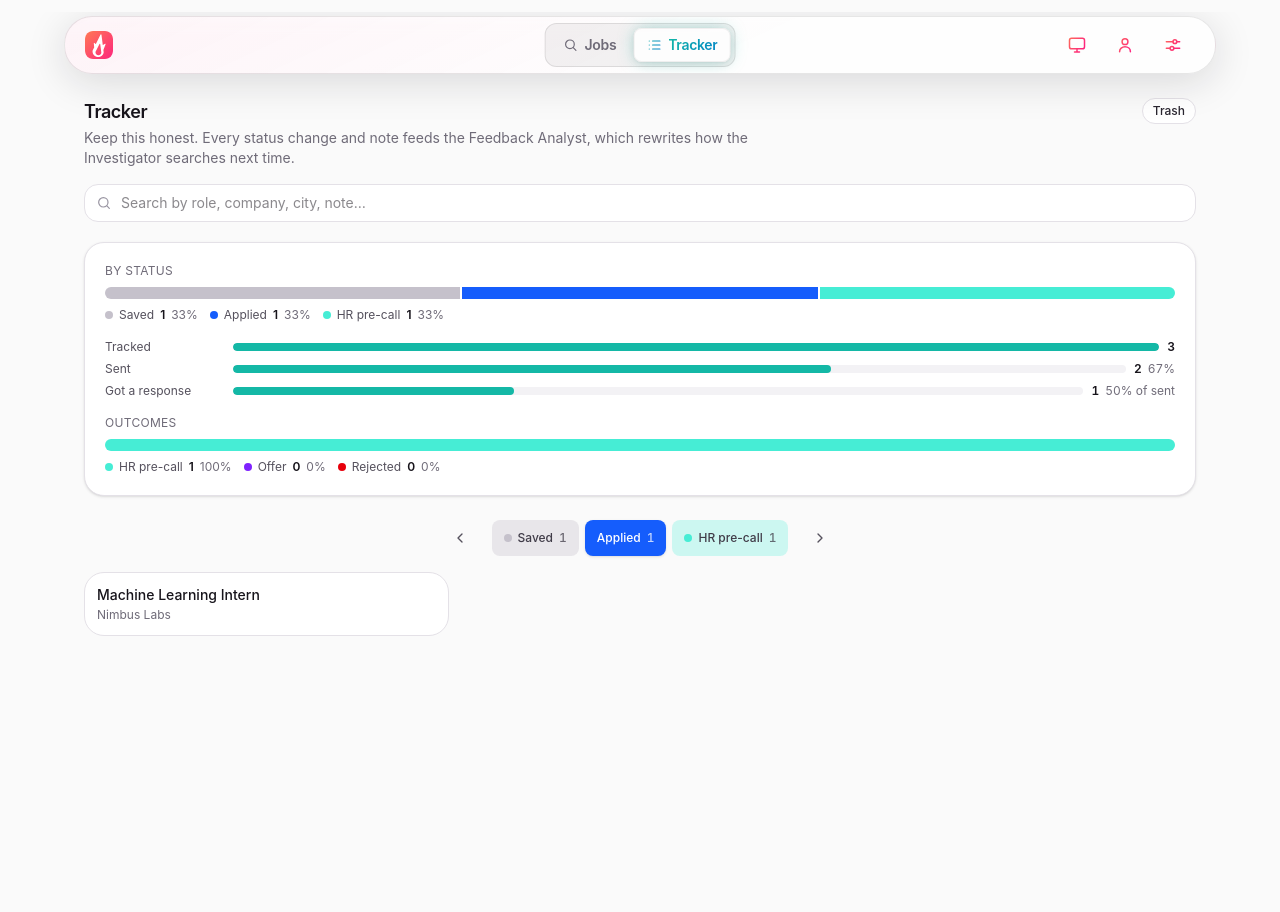
the Tracker's search field › bringing the results into view › leaves the page alone when the results already show
Expected: the text "Nimbus Labs" is shown, [97,607,171,622]
In the search field named "Search applications": (640, 203) [84,184,1196,222], type "orbital"
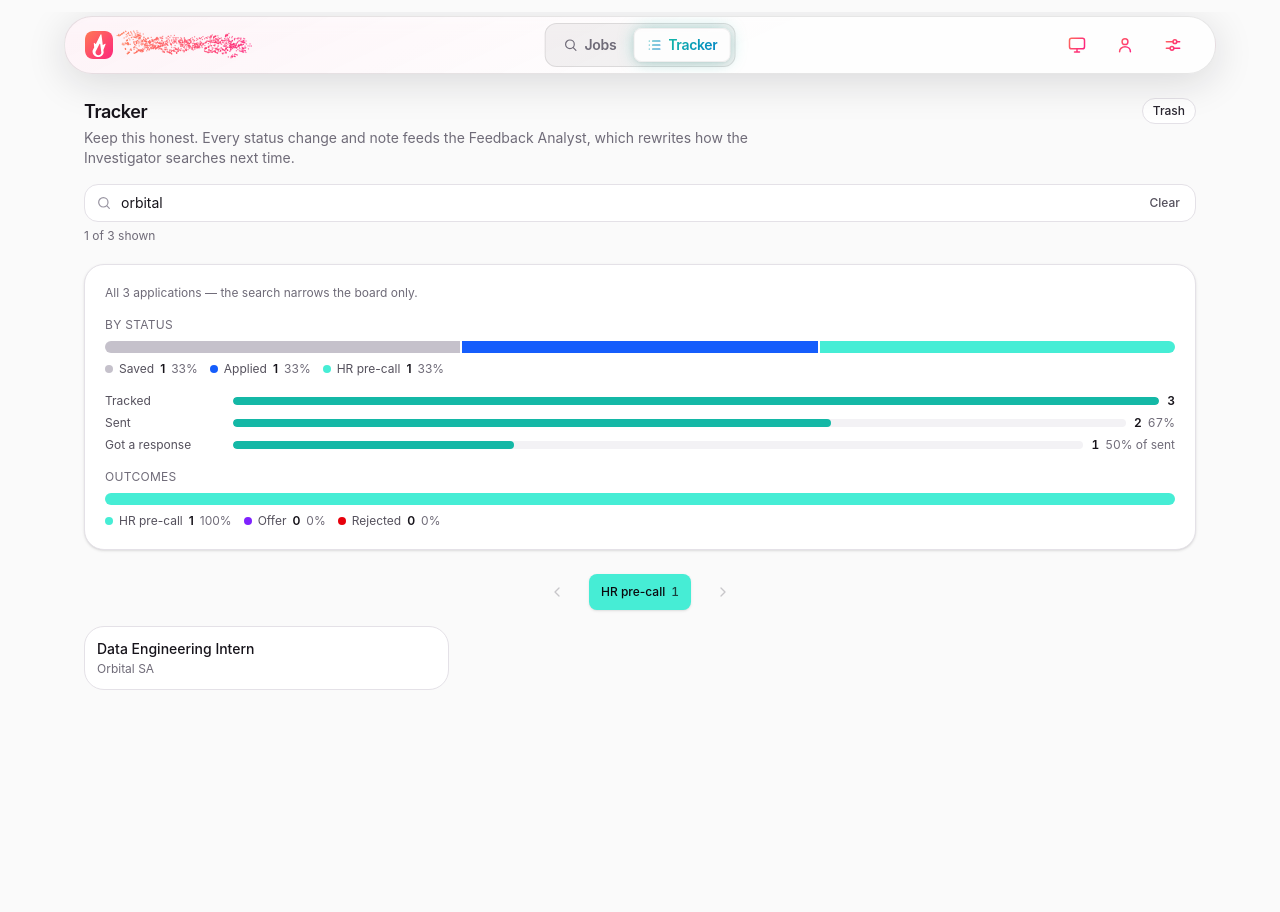
Now the text "1 of 3 shown" is shown, box [84,228,155,243]
